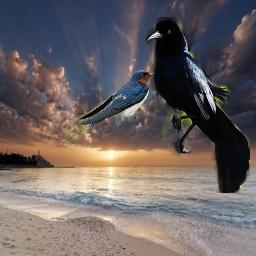Crow: (146, 17, 250, 193)
Swallow: (64, 70, 155, 146)
